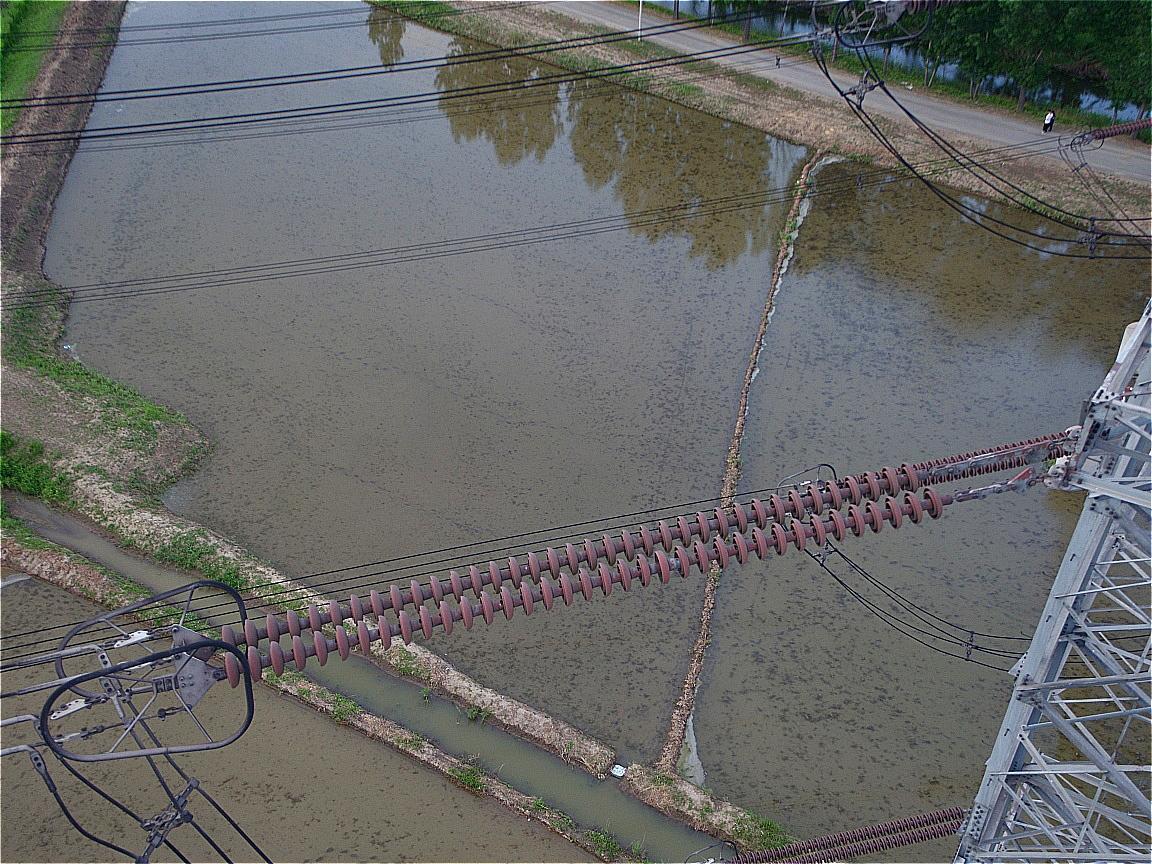insultor1: (203, 456, 962, 690)
